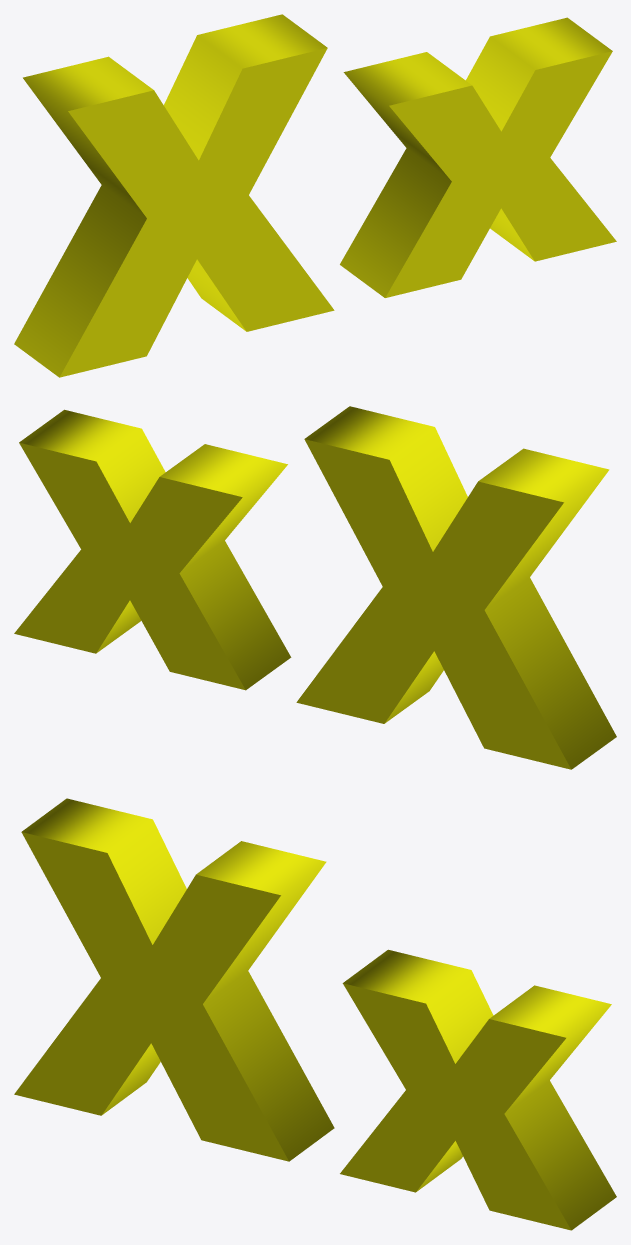
Rendered from letra x.fbx.
3 renders of one model, top to bottom at view 1: azimuth 30°, elevation 25°; view 2: azimuth 150°, elevation 25°; view 3: azimuth 330°, elevation 25°, orthographic.
Parts seen in each view (by area): view 1: Text; view 2: Text; view 3: Text.
Part boxes in pixels (x1,y1,x2,y2): Text: [14, 14, 616, 377]; Text: [14, 406, 616, 769]; Text: [14, 798, 616, 1230].
Bounding box in the file's own units: 113 × 51.56 × 16.21.
